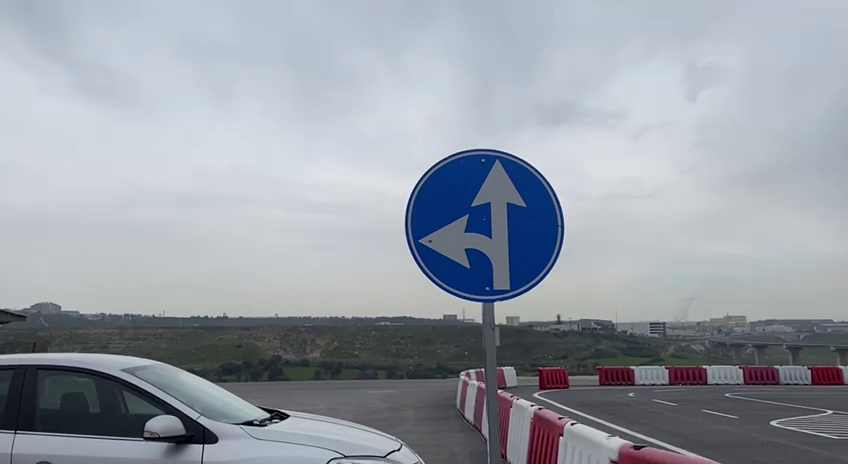forwardAndLeft: (397, 146, 573, 309)
